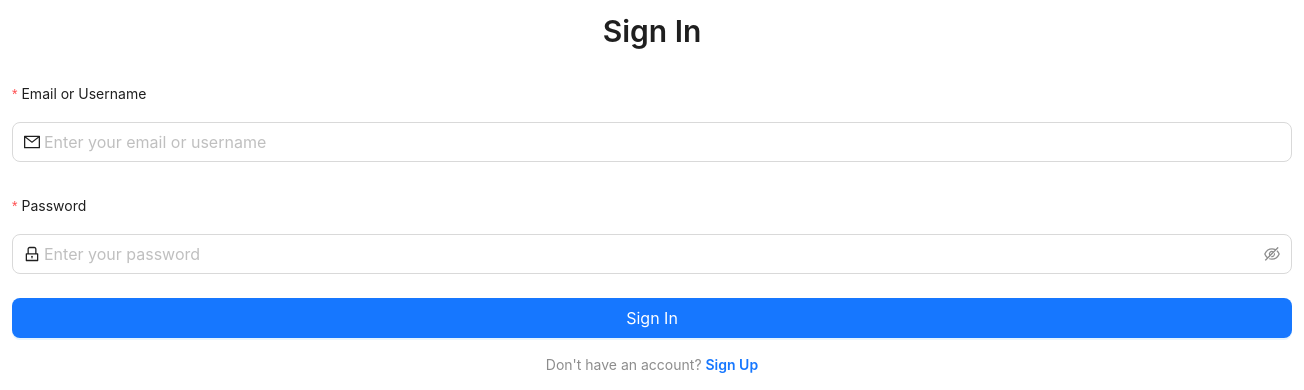
it: LoginPage › shows validation error when email is empty
The image size is (1304, 390).
Click the button "Sign In" at (652, 318), box [12,298,1292,338]
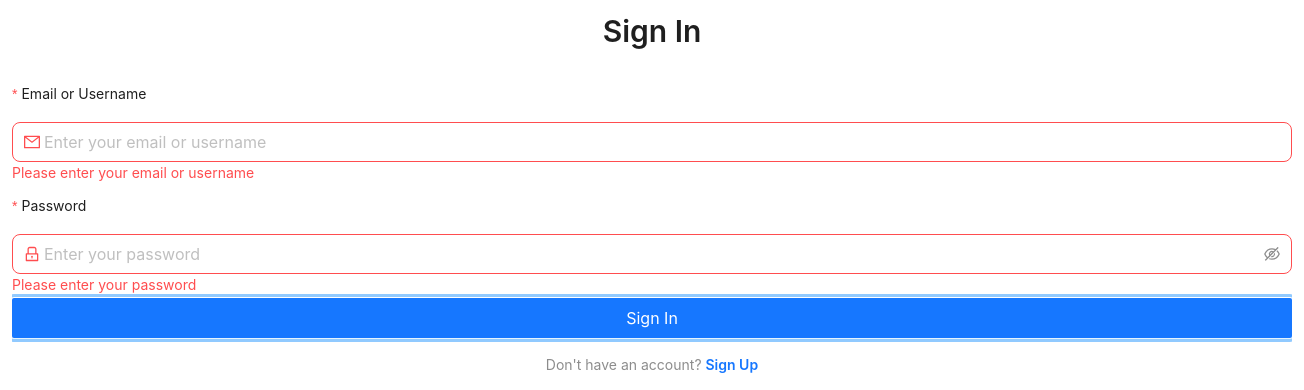
Expected: the text "Please enter your email or username" is shown, [12,164,254,181]
